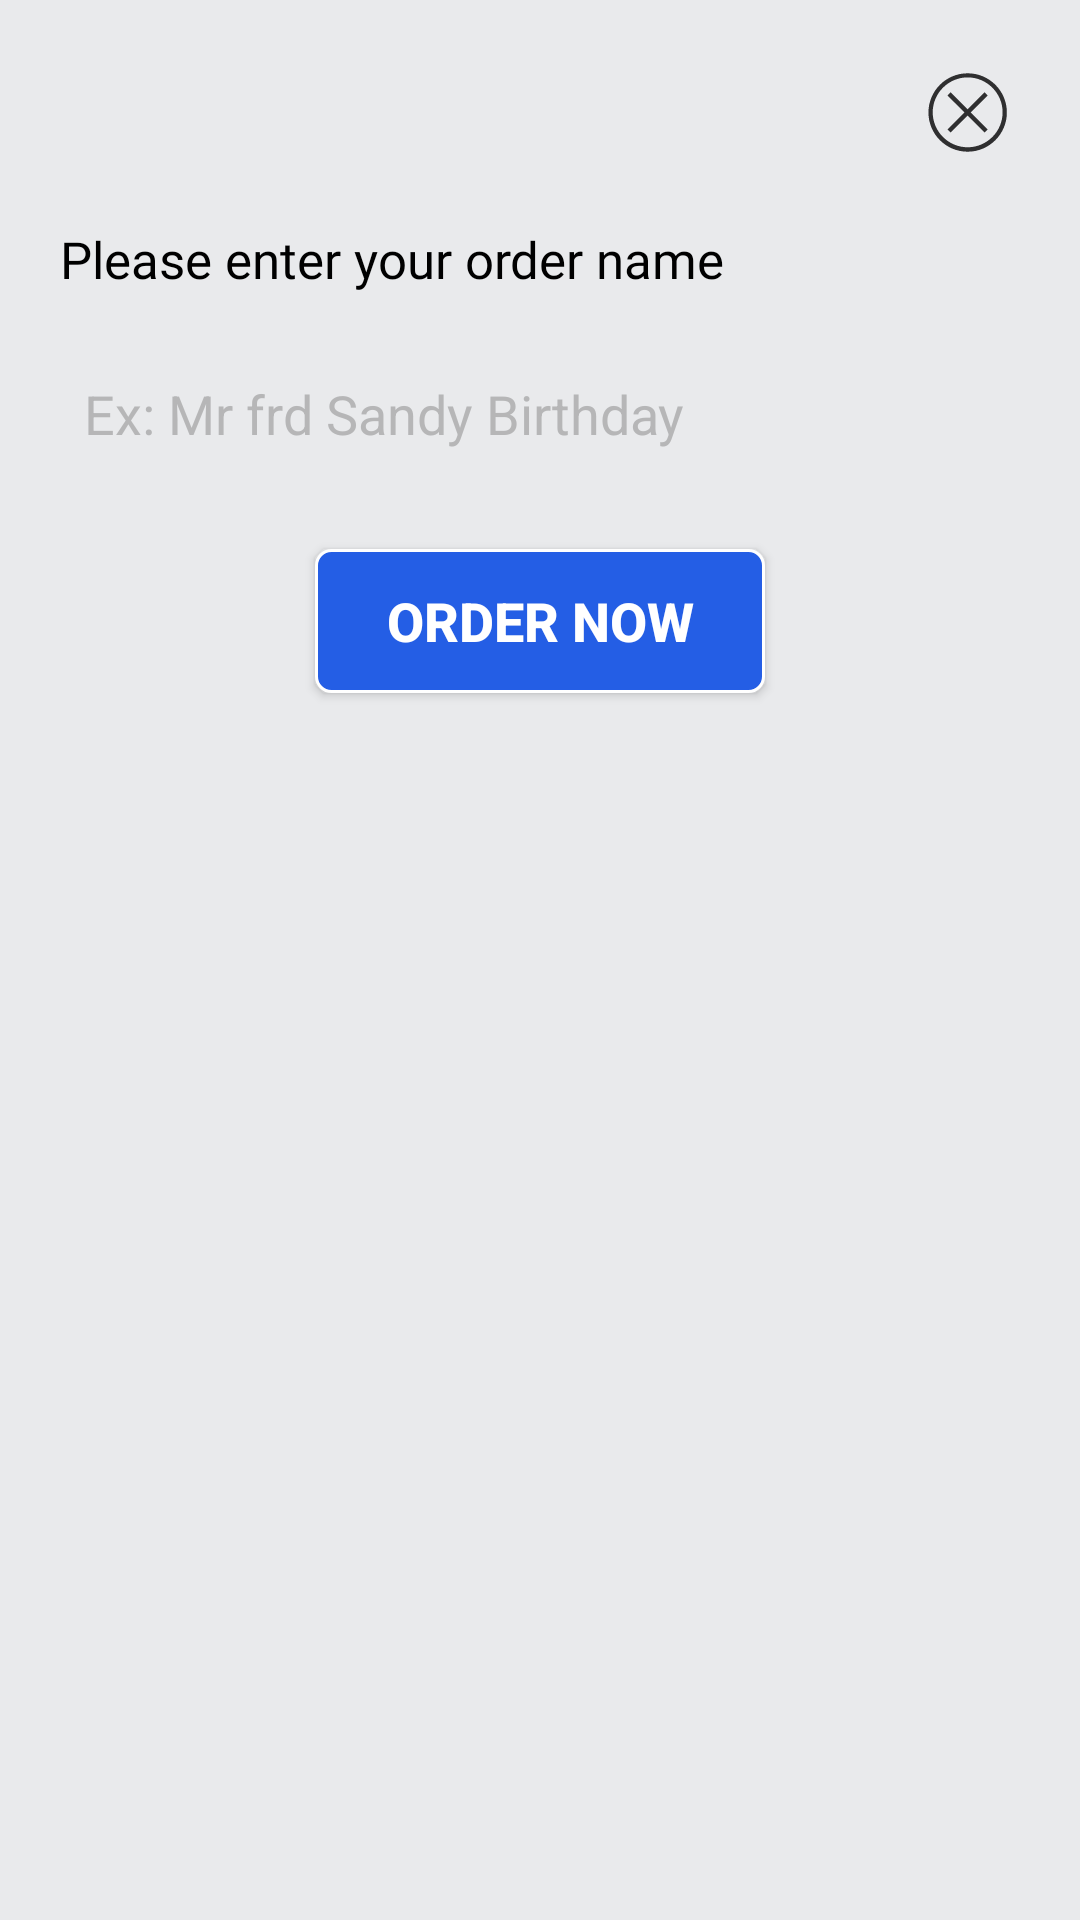

Locate icon controls on the screen. Image size 1080 x 1920, boxes as region(x1, y1, x2, y2).
closebtn: region(928, 73, 1007, 152)
